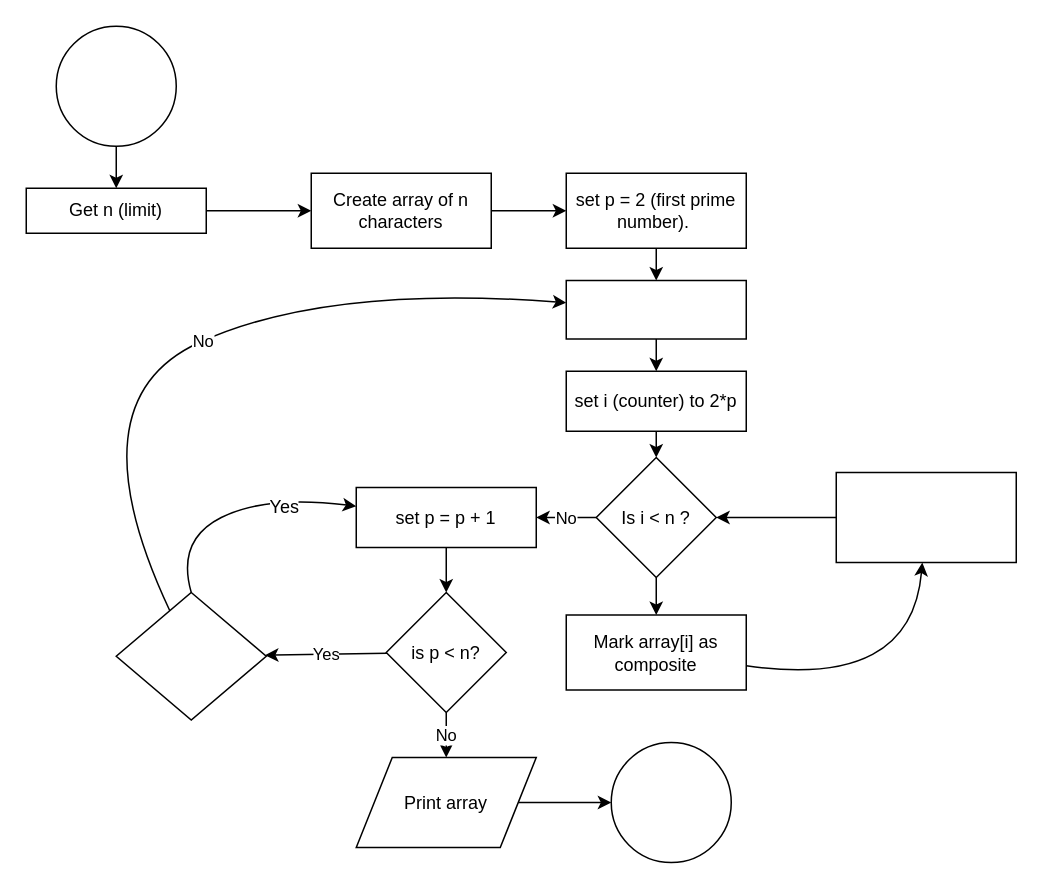
The diagram is 1043 pixels wide and 890 high, and some of its shapes have lost their labels. Each missing label, with the centre of its shape:
"End" belongs at pixel 670 801.
"Is array[p] marked as composite?" belongs at pixel 190 655.
"Mark array[p] as prime" belongs at pixel 655 309.
"set i = i + p" belongs at pixel 925 516.
"Start" belongs at pixel 115 85.
